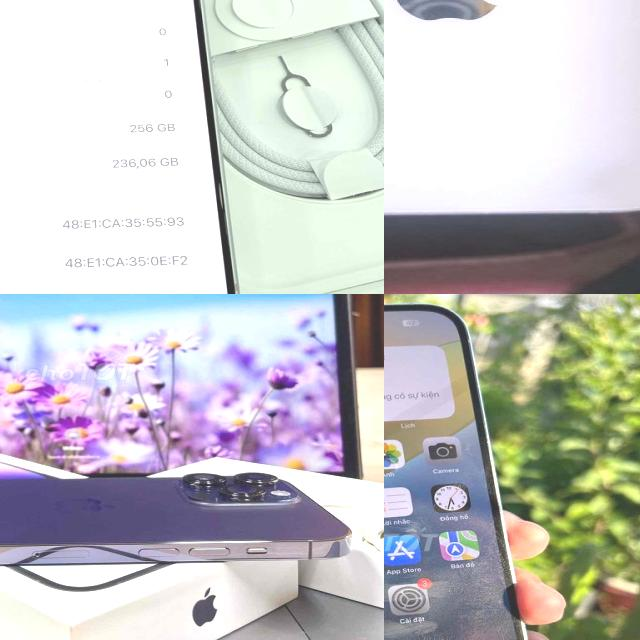gen_12_13: (384, 0, 640, 218)
gen_14: (384, 298, 543, 640), (0, 469, 350, 565)
gen_17: (0, 0, 254, 294)
